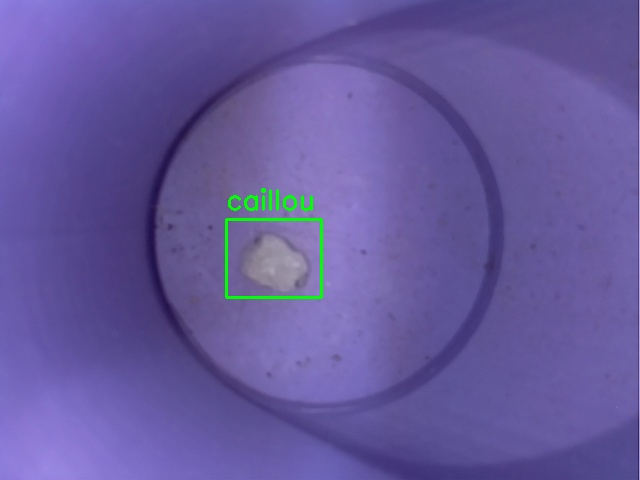caillou: (226, 219, 321, 297)
